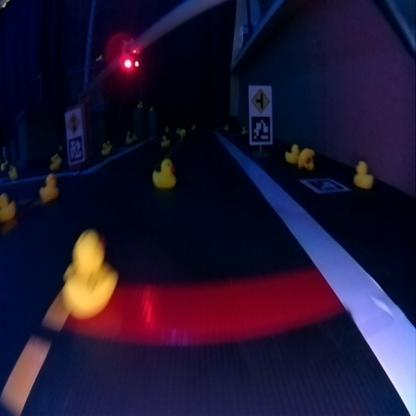Duckie: (63, 230, 118, 315), (39, 172, 59, 203), (153, 159, 174, 188), (354, 160, 373, 188), (0, 191, 15, 222), (298, 147, 313, 170), (285, 143, 298, 163), (50, 156, 59, 169), (161, 134, 169, 146), (101, 143, 109, 154), (180, 127, 186, 136), (136, 100, 142, 108), (126, 135, 132, 142), (242, 124, 247, 132), (224, 123, 228, 129)
Intersection sign: (250, 85, 271, 113)
QR code: (299, 178, 351, 193), (250, 115, 271, 144), (68, 135, 82, 162)
Signal sign: (65, 111, 80, 134)
Traffic light: (120, 38, 138, 70)
